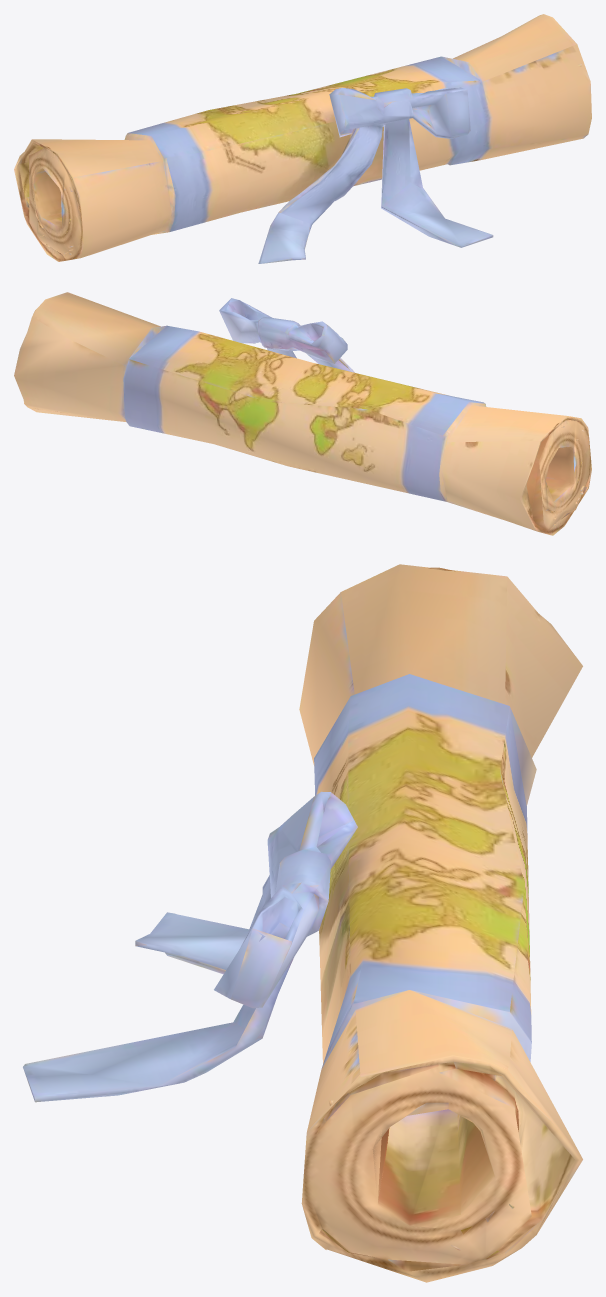
File: s1_gen_map_scroll.glb
3 renders of one model, top to bottom at view 1: azimuth 30°, elevation 25°; view 2: azimuth 150°, elevation 25°; view 3: azimuth 270°, elevation 25°, orthographic. The views are drawn at different scales.
Bounding box in the file's own units: 1.91 × 0.4501 × 0.8963.
1 material, 1 textured.
